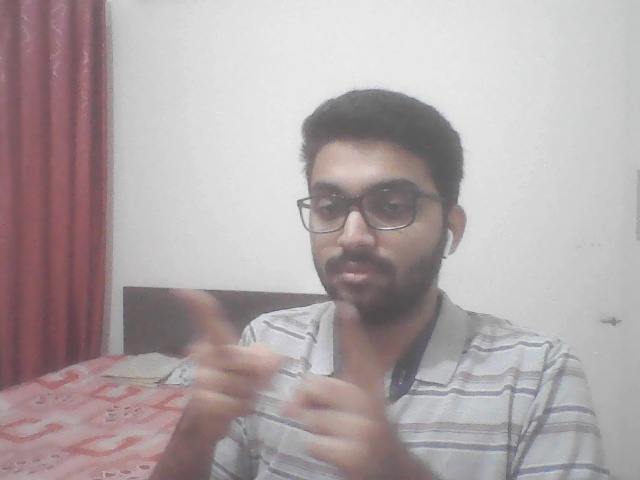go: (148, 271, 433, 469)
